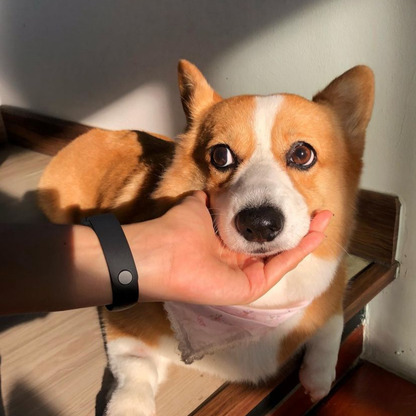Corgi: (93, 52, 388, 383)
